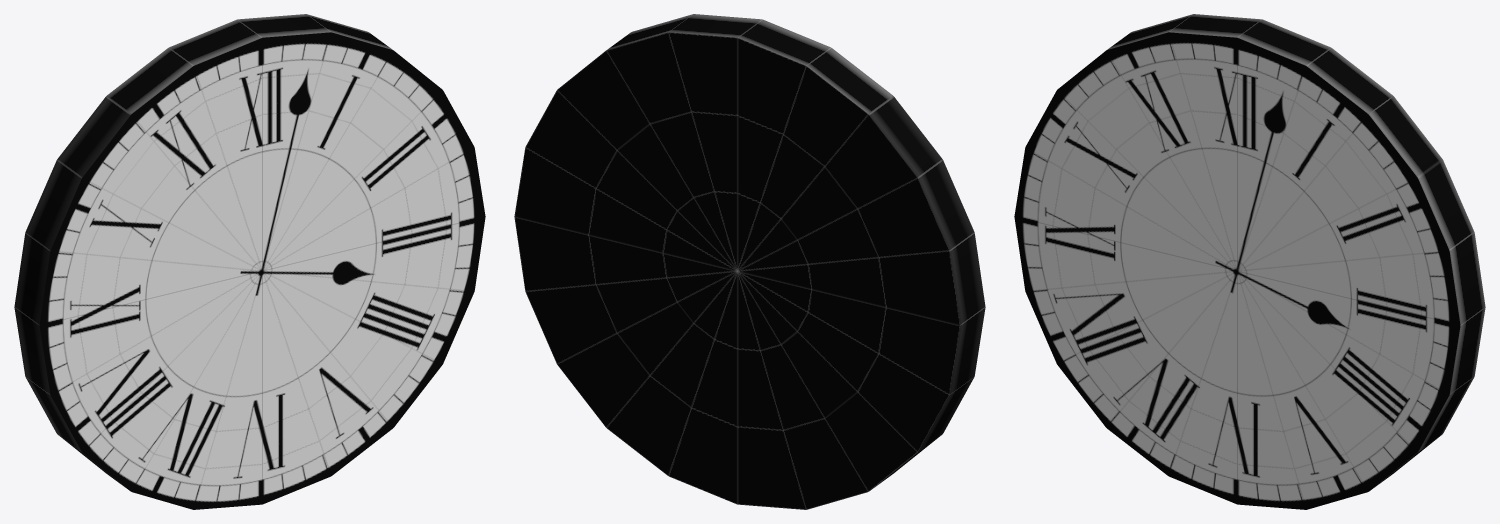
File: Clock_finished.fbx
3 views of the same model, side by side, from view 1: azimuth 30°, elevation 25°; view 2: azimuth 150°, elevation 25°; view 3: azimuth 330°, elevation 25° (orthographic).
Visible parts, largest first — view 1: pCylinder1; view 2: pCylinder1; view 3: pCylinder1.
Boxes of the visible parts, x1,y1,x2,y2 form: pCylinder1: (14,14,485,509); pCylinder1: (514,14,985,509); pCylinder1: (1014,14,1485,509).
Size of the model in its own units: 6.02 by 6.02 by 0.5861.
1 material, 1 textured.
